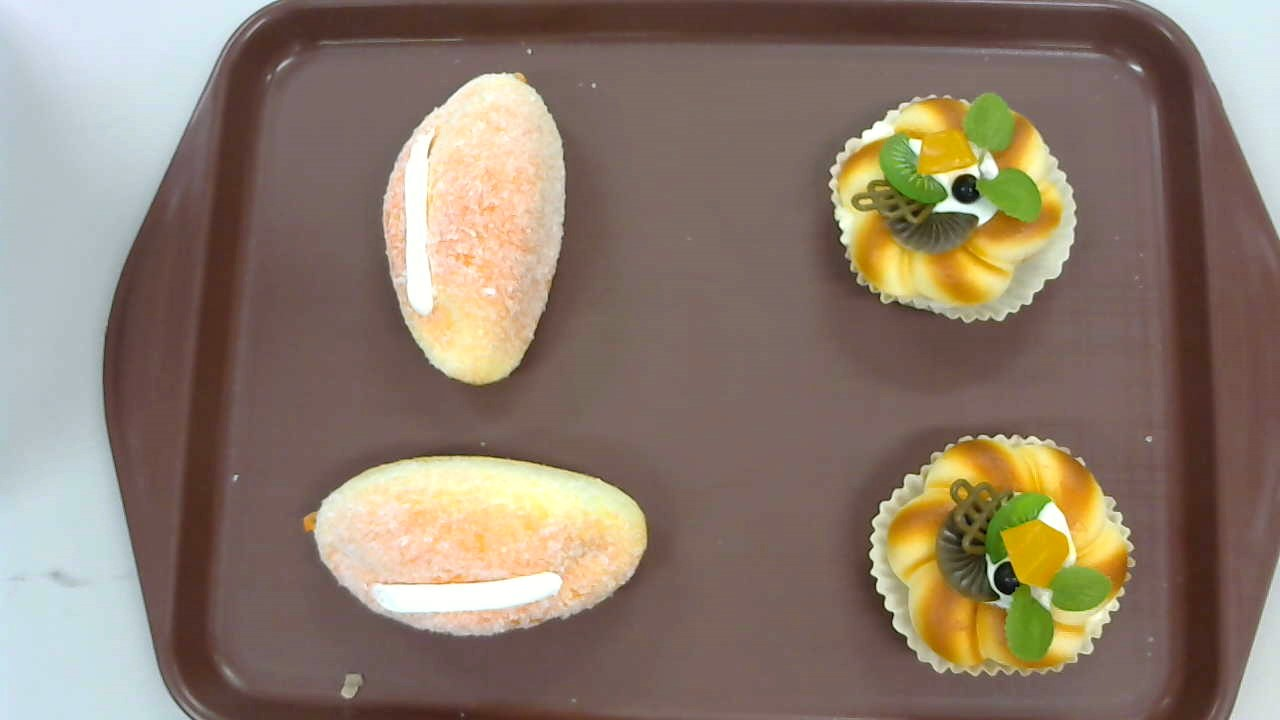coconut: (302, 452, 648, 638), (382, 69, 568, 385)
fruit tart: (869, 434, 1135, 679), (829, 92, 1076, 325)
